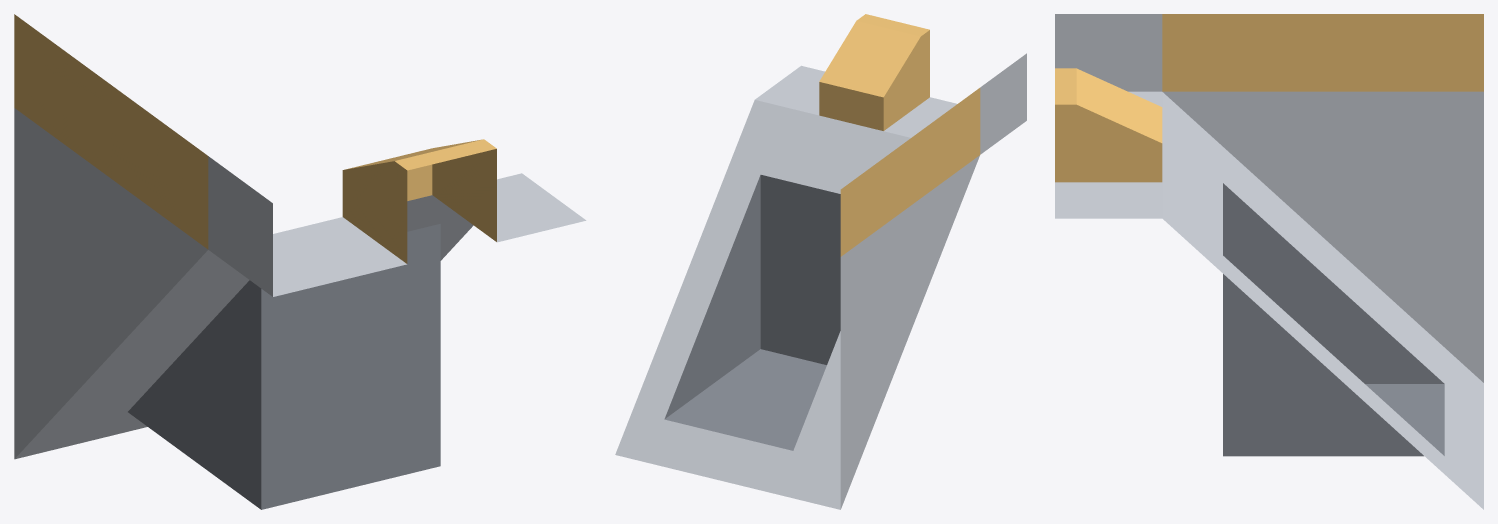
3 views of the same model, side by side, from view 1: azimuth 30°, elevation 25°; view 2: azimuth 150°, elevation 25°; view 3: azimuth 270°, elevation 25° (orthographic). The views are drawn at different scales.
Bounding box in the file's own units: 0.7 × 0.95 × 1.
